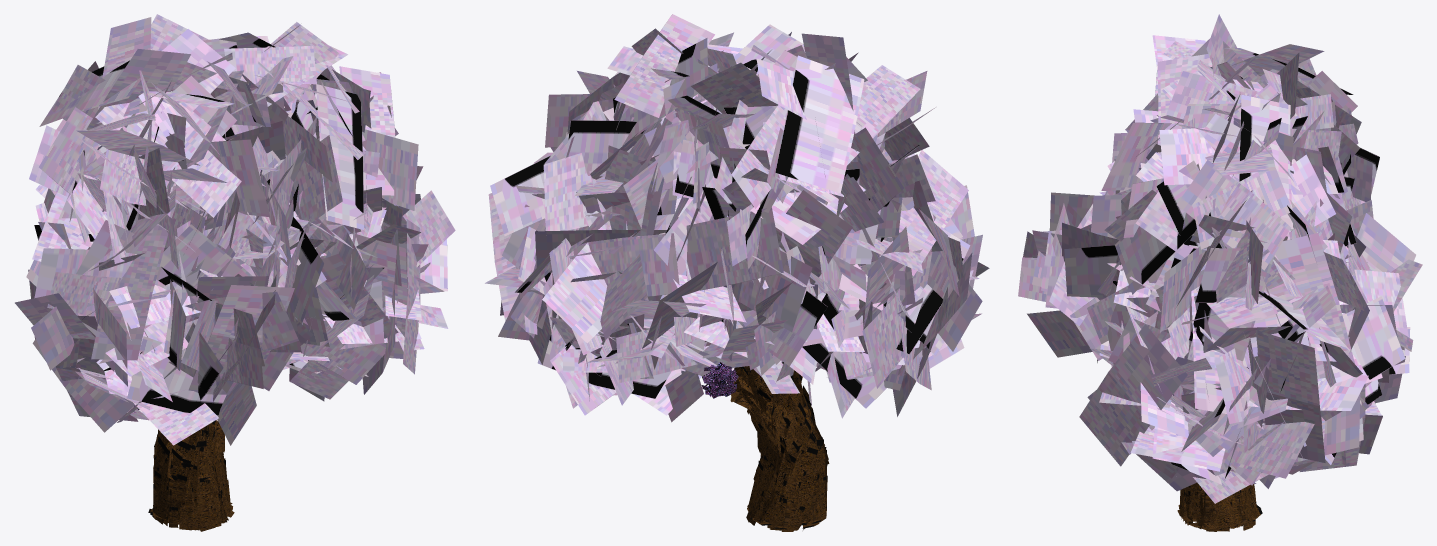
Rendered from FBX-Tree2.fbx.
The picture shows the model from 3 angles, left to right: view 1: azimuth 30°, elevation 25°; view 2: azimuth 150°, elevation 25°; view 3: azimuth 270°, elevation 25°; orthographic projection. The views are drawn at different scales.
Parts seen in each view (by area): view 1: TreeLeaves.001, TreeTrunk.001; view 2: TreeLeaves.001, TreeTrunk.001, Crystal_Small.005; view 3: TreeLeaves.001, TreeTrunk.001.
Part boxes in pixels (box(x1,y1,x2,y2)): TreeLeaves.001: box(15, 14, 455, 445); TreeTrunk.001: box(148, 420, 234, 531); TreeLeaves.001: box(485, 14, 989, 422); TreeTrunk.001: box(730, 362, 829, 531); Crystal_Small.005: box(701, 362, 738, 398); TreeLeaves.001: box(1018, 14, 1422, 503); TreeTrunk.001: box(1177, 482, 1262, 531).
Size of the model in its own units: 1273 by 1359 by 1045.
Materials: 5 (5 with a texture image).
